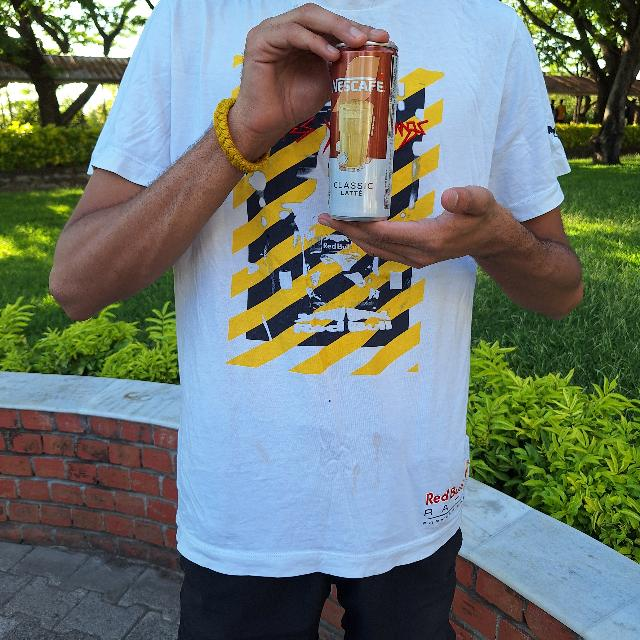Nescafe Classic Iced Latte: (324, 41, 402, 221)
